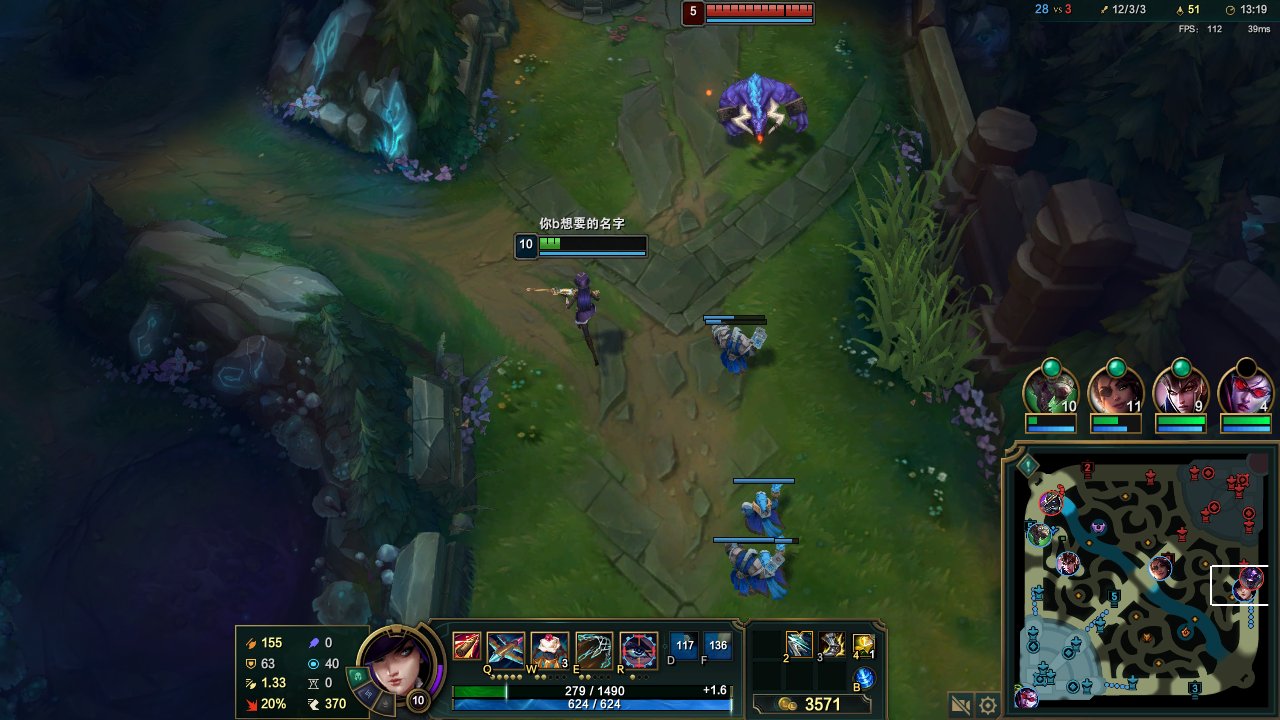DFYX: (702, 2, 804, 18)
KF: (791, 634, 812, 652)
WFXB: (754, 552, 804, 589), (738, 491, 782, 531), (729, 548, 760, 586), (725, 326, 749, 361), (713, 322, 736, 353)
